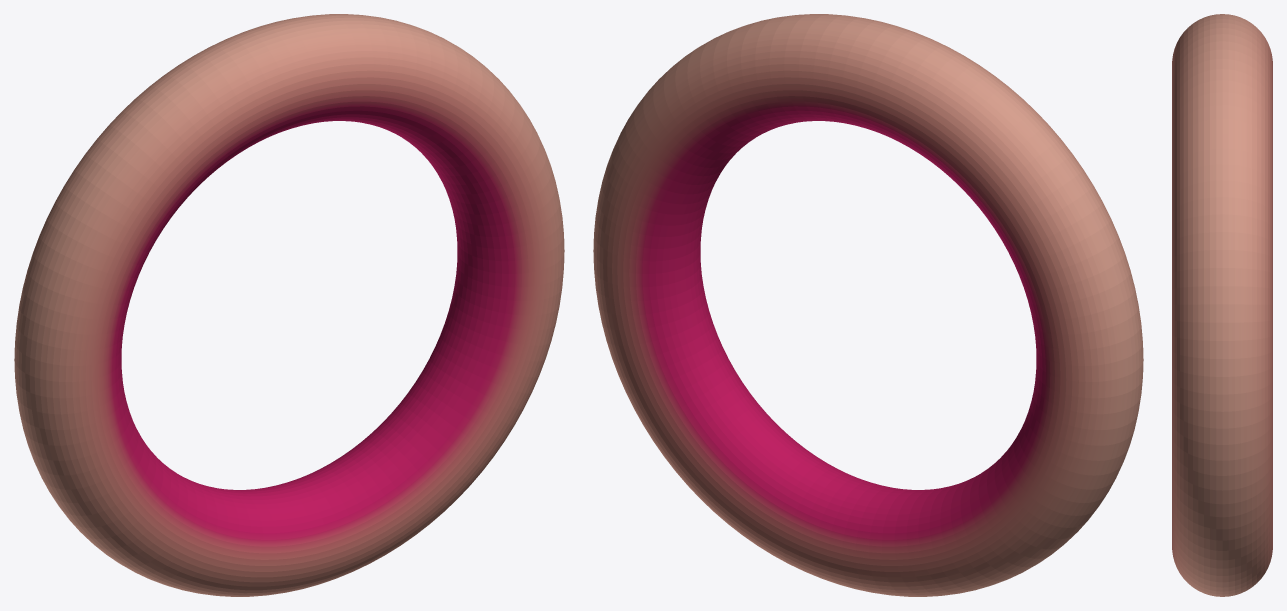
3 renders of one model, left to right at view 1: azimuth 30°, elevation 25°; view 2: azimuth 150°, elevation 25°; view 3: azimuth 270°, elevation 25°, orthographic. The views are drawn at different scales.
Visible parts, largest first — view 1: world; view 2: world; view 3: world.
Part boxes in pixels (bbox=[...]): world: bbox=[14, 14, 564, 596]; world: bbox=[593, 14, 1143, 596]; world: bbox=[1172, 14, 1272, 596].
Bounding box in the file's own units: 34.67 × 34.67 × 5.99.
